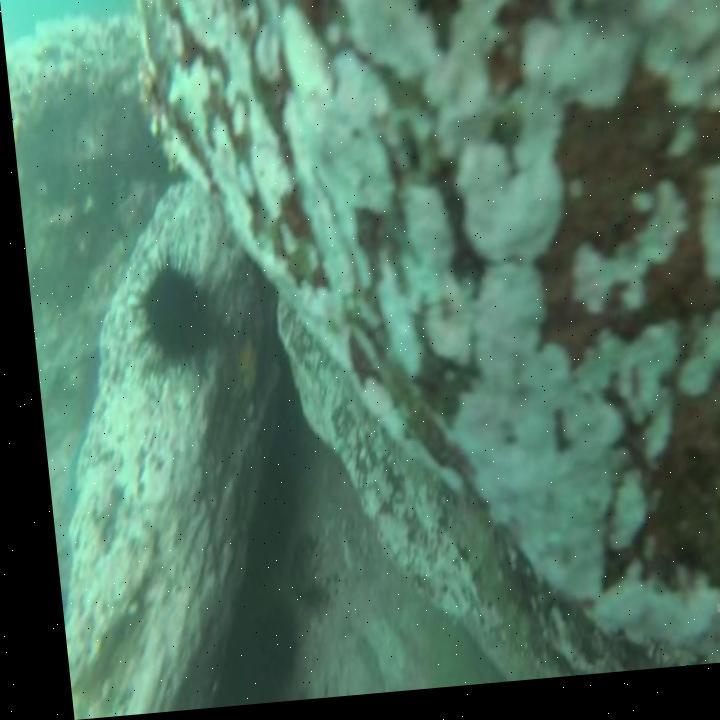echinus: (132, 262, 203, 373)
holothurian: (271, 534, 319, 622)
